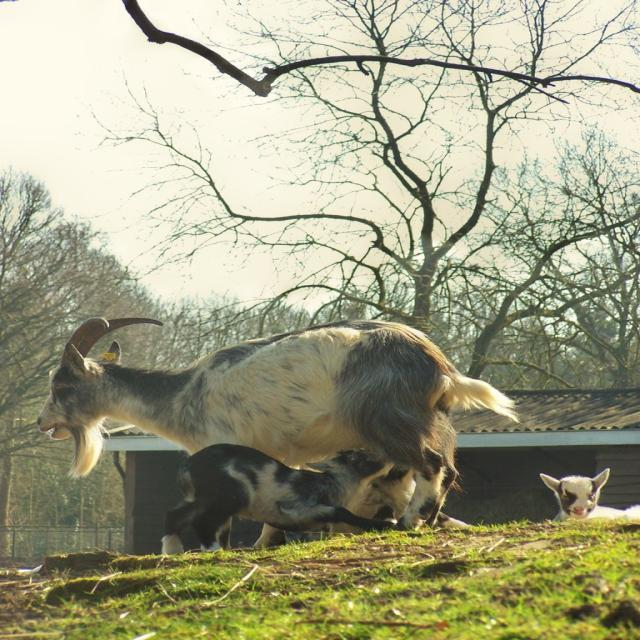Goat: (36, 315, 520, 553), (159, 442, 469, 555), (538, 467, 639, 522)
